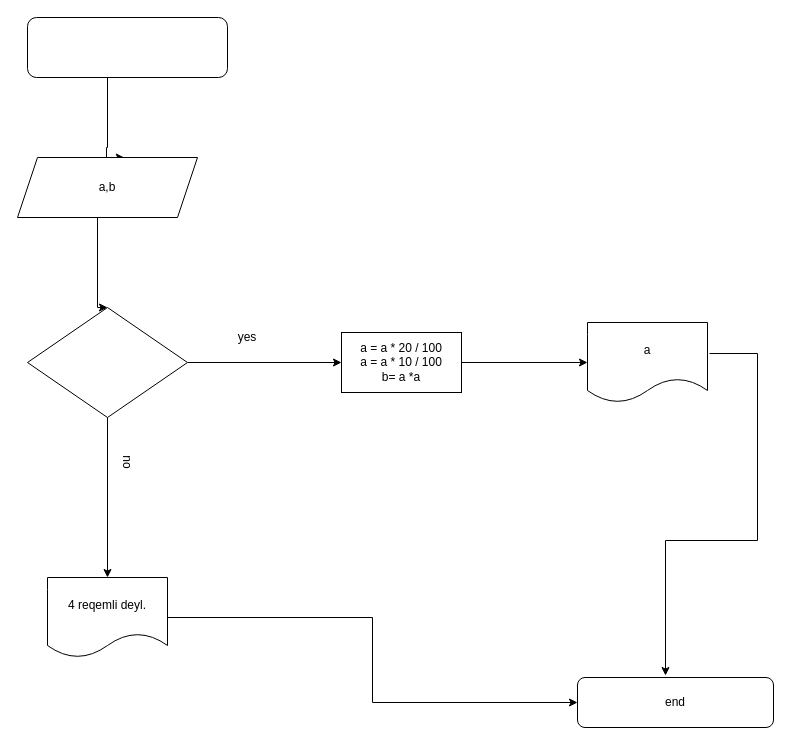
This 791x745 diagram has some shape labels left out. Each missing label, with the centre of its shape:
"a >= 1000 && a < 10000" belongs at point 107,362.
"start" belongs at point 127,47.
